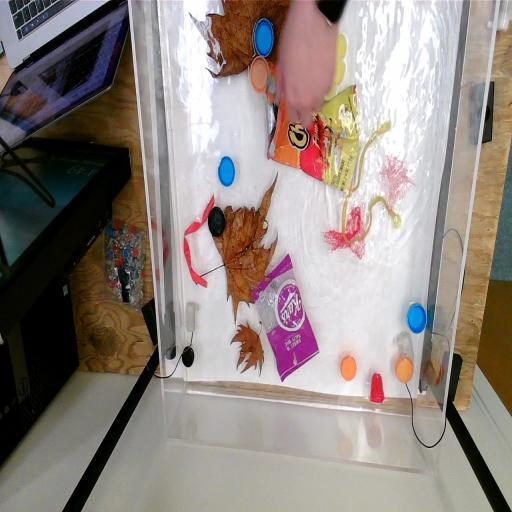Bottle Cap: (252, 15, 275, 56), (248, 54, 271, 94), (407, 302, 428, 336), (216, 154, 236, 186), (338, 352, 358, 383), (207, 208, 226, 240), (395, 354, 414, 386), (181, 345, 196, 368)
Cone Cap: (368, 369, 386, 410)
Leaf: (214, 179, 280, 323), (190, 0, 280, 85), (230, 321, 266, 378)
Netting: (320, 202, 368, 262), (382, 151, 416, 214)
Plastic Bag: (266, 98, 362, 194), (252, 254, 322, 379)
Plastic Strand: (342, 119, 403, 247), (182, 198, 214, 296)
Sponge: (325, 32, 355, 102)
